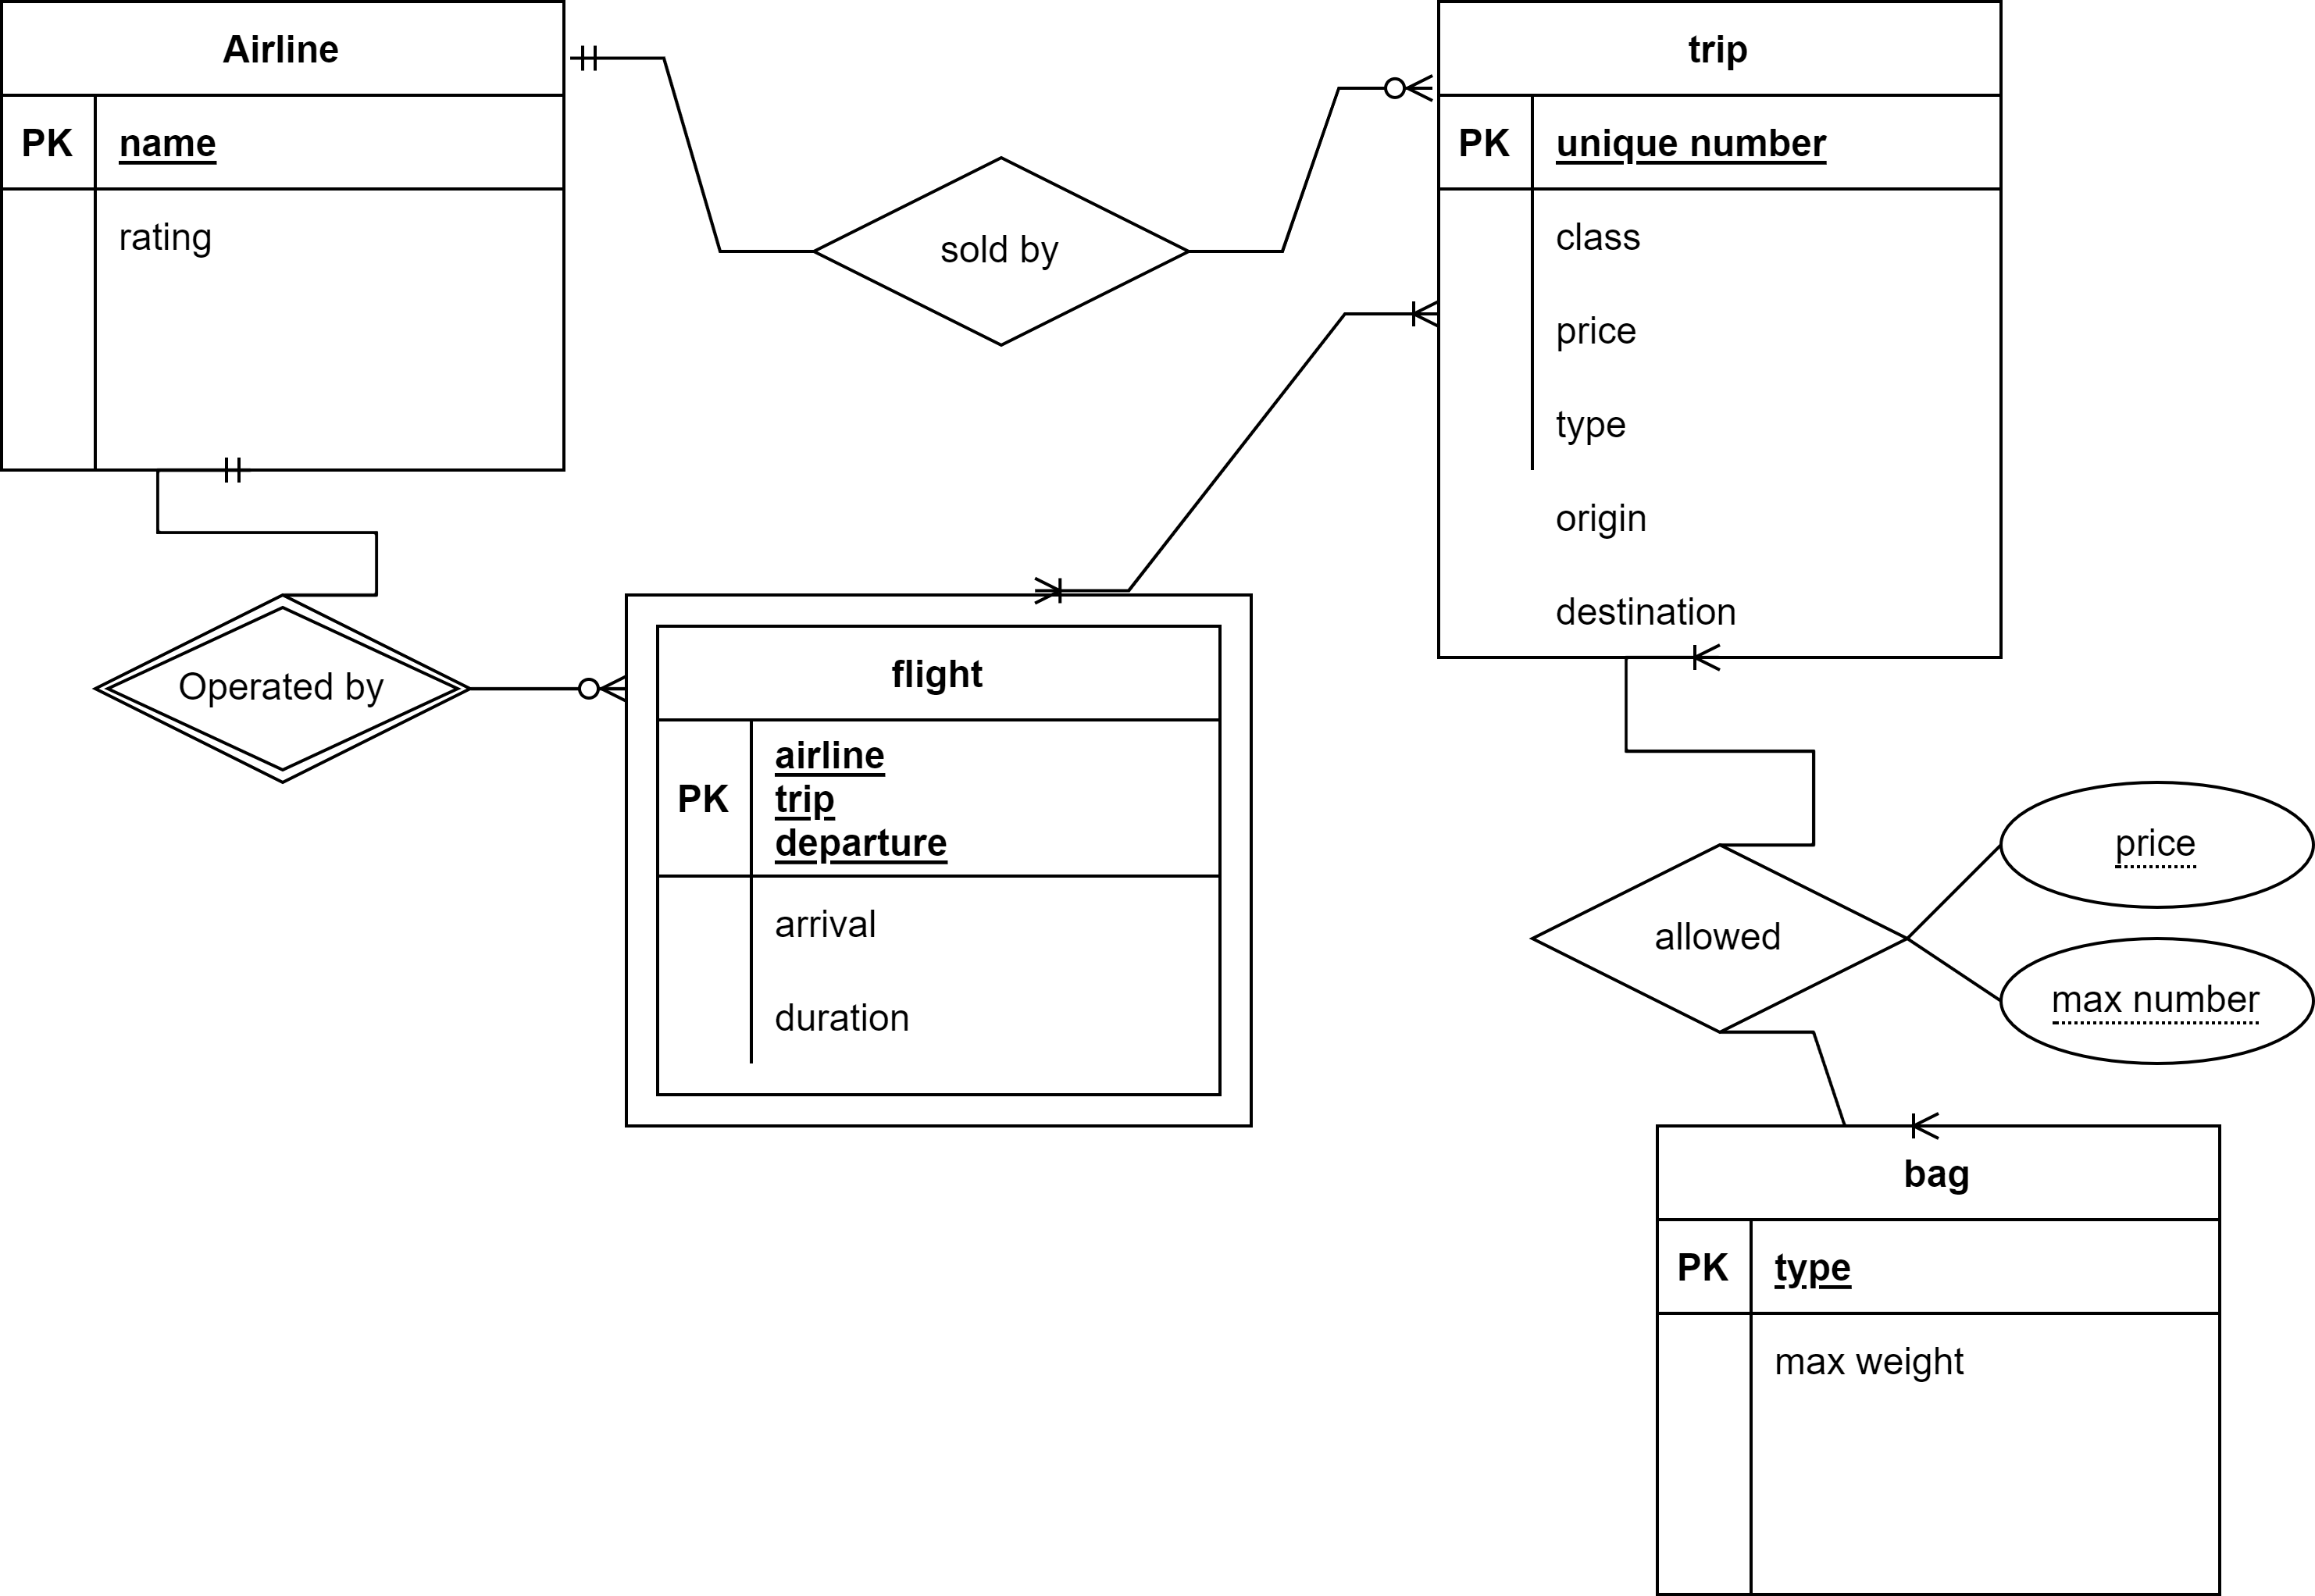entity: (1435, 0, 2002, 656), (1659, 1121, 2225, 1596), (2, 0, 565, 476)
ident_rel: (84, 598, 471, 786)
many: (1353, 281, 1441, 343), (1358, 56, 1439, 118), (1884, 1092, 1953, 1155), (1004, 561, 1089, 608), (566, 652, 628, 714), (1676, 636, 1742, 680)
one: (190, 438, 273, 497), (575, 37, 640, 91)
rel: (813, 155, 1198, 346), (1530, 847, 1914, 1034)
rel_attr: (1997, 933, 2315, 1065), (2002, 786, 2315, 909)
weak_entity: (628, 589, 1251, 1127)
